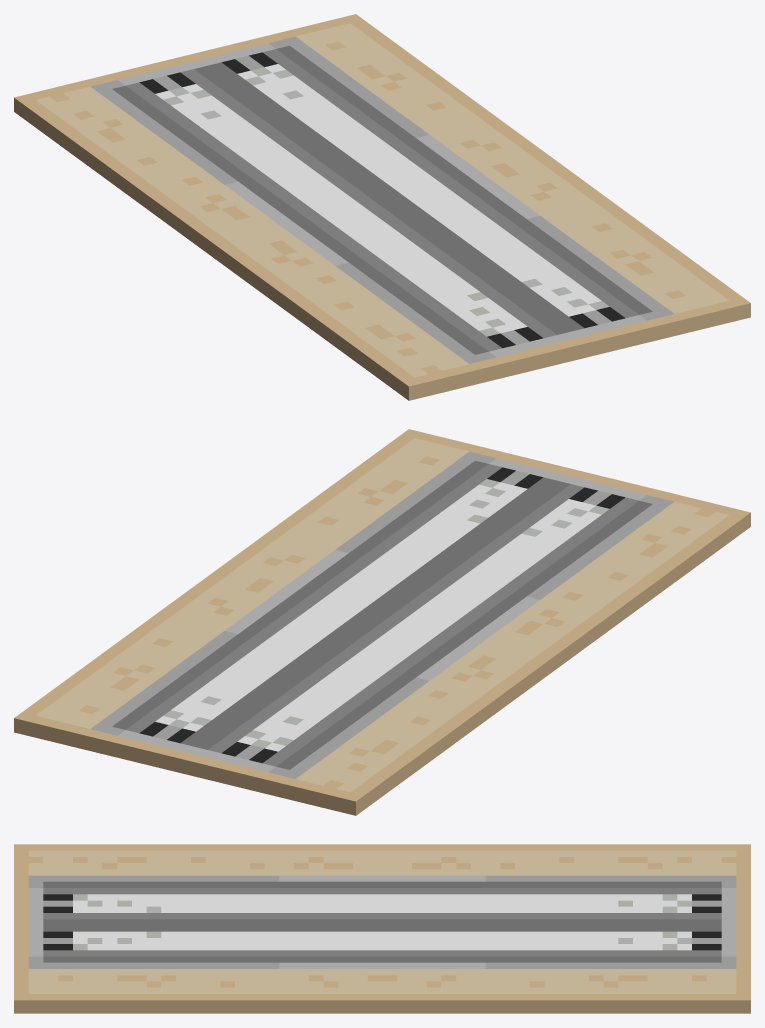
The model's file is ceiling_lights.obj.
3 views of the same model, one above another, from view 1: azimuth 30°, elevation 25°; view 2: azimuth 150°, elevation 25°; view 3: azimuth 270°, elevation 25° (orthographic). The views are drawn at different scales.
Bounding box in the file's own units: 25 × 1 × 50.
1 material, 1 textured.
